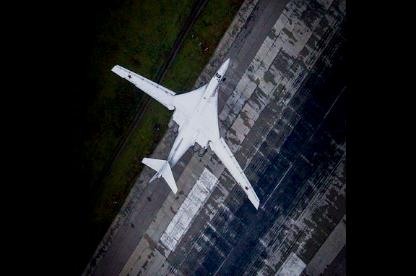Su34: (110, 56, 260, 208)
